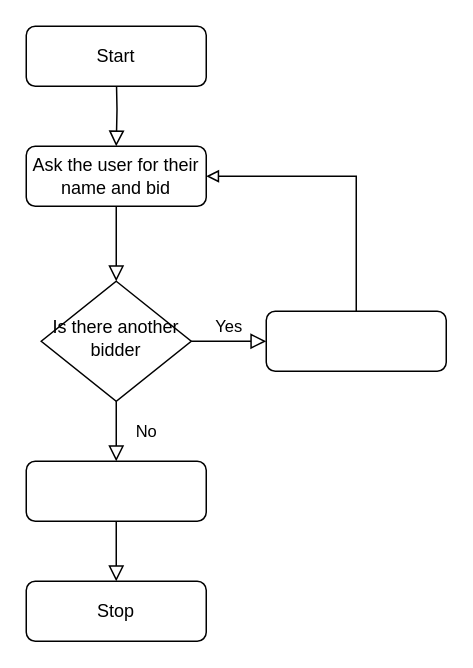
The diagram is 473 pixels wide and 668 high, and some of its shapes have lost their labels. Each missing label, with the centre of its shape:
"Clear console" belongs at pixel 355 340.
"Show who is the winner" belongs at pixel 115 490.
